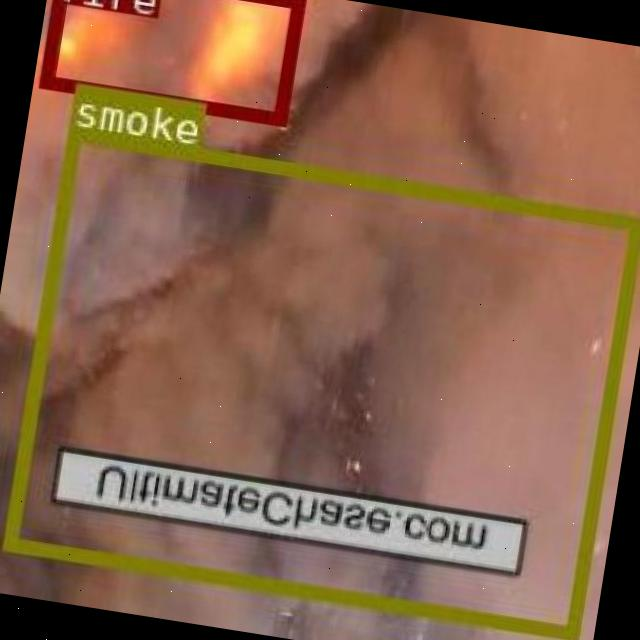fire: (38, 0, 304, 123)
smoke: (2, 125, 640, 636)
